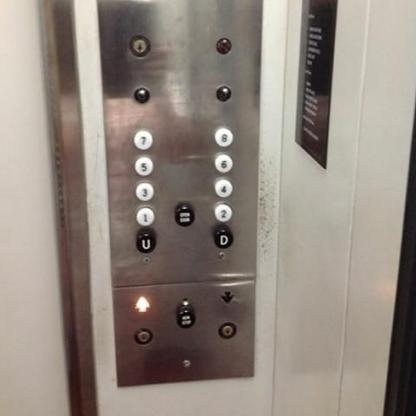1: (133, 204, 154, 225)
2: (212, 201, 232, 221)
3: (134, 180, 153, 200)
4: (214, 176, 233, 198)
5: (133, 154, 153, 176)
6: (213, 152, 232, 172)
7: (132, 127, 154, 149)
8: (212, 126, 233, 146)
D: (211, 226, 233, 248)
U: (134, 230, 155, 253)
down: (218, 288, 234, 304)
indicator: (131, 85, 151, 103), (212, 36, 231, 54), (216, 84, 231, 102)
keyhole: (127, 34, 151, 57), (134, 327, 152, 345), (217, 321, 236, 338)
text: (174, 299, 196, 328), (174, 202, 194, 225)
up: (132, 294, 150, 313)
